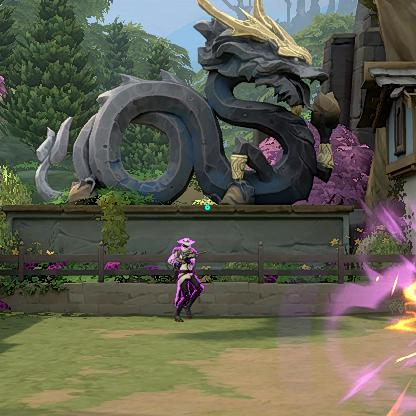enemyBody: (180, 251, 189, 270)
enemyHead: (183, 243, 189, 249)
